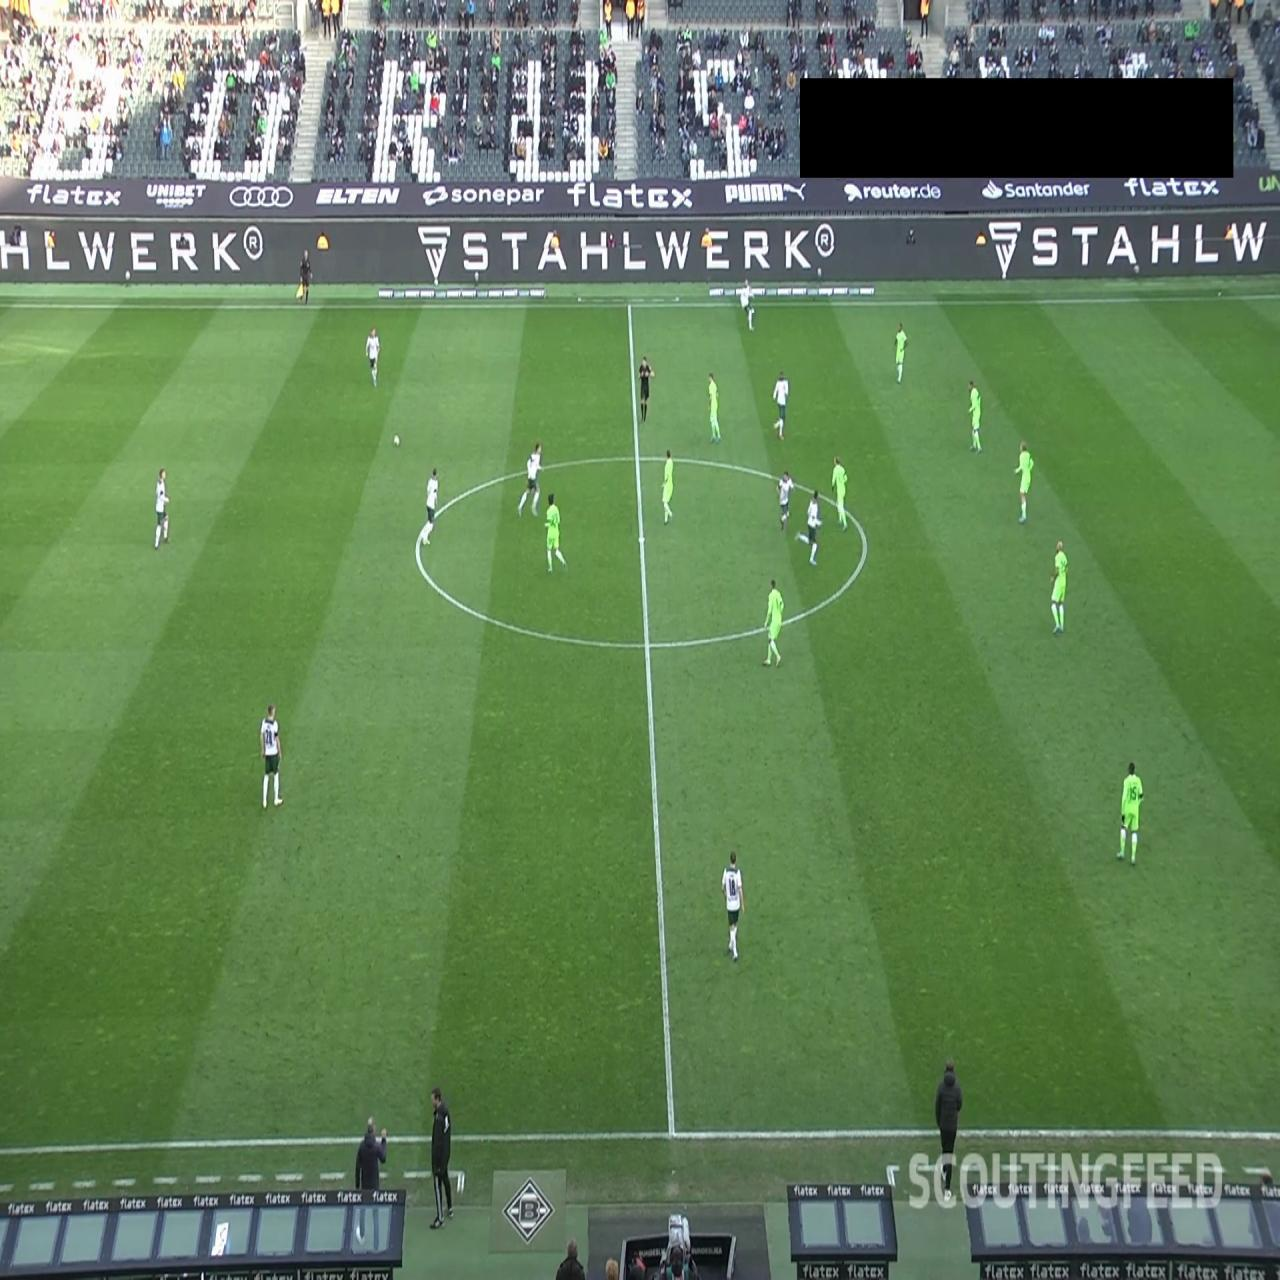Ball: (392, 432, 400, 447)
Player: (1116, 761, 1144, 864), (721, 848, 745, 962), (260, 701, 284, 810), (518, 441, 544, 519), (762, 577, 784, 669), (544, 492, 568, 574), (1049, 538, 1068, 635), (1014, 440, 1034, 524), (771, 368, 790, 441), (422, 467, 439, 545), (154, 467, 170, 549), (831, 454, 848, 531), (806, 488, 822, 566), (966, 379, 982, 454), (776, 469, 794, 532), (708, 371, 722, 442), (893, 321, 909, 383), (661, 448, 674, 524), (740, 277, 756, 332), (366, 326, 380, 388)
Referee: (638, 354, 656, 422), (296, 248, 313, 303)
